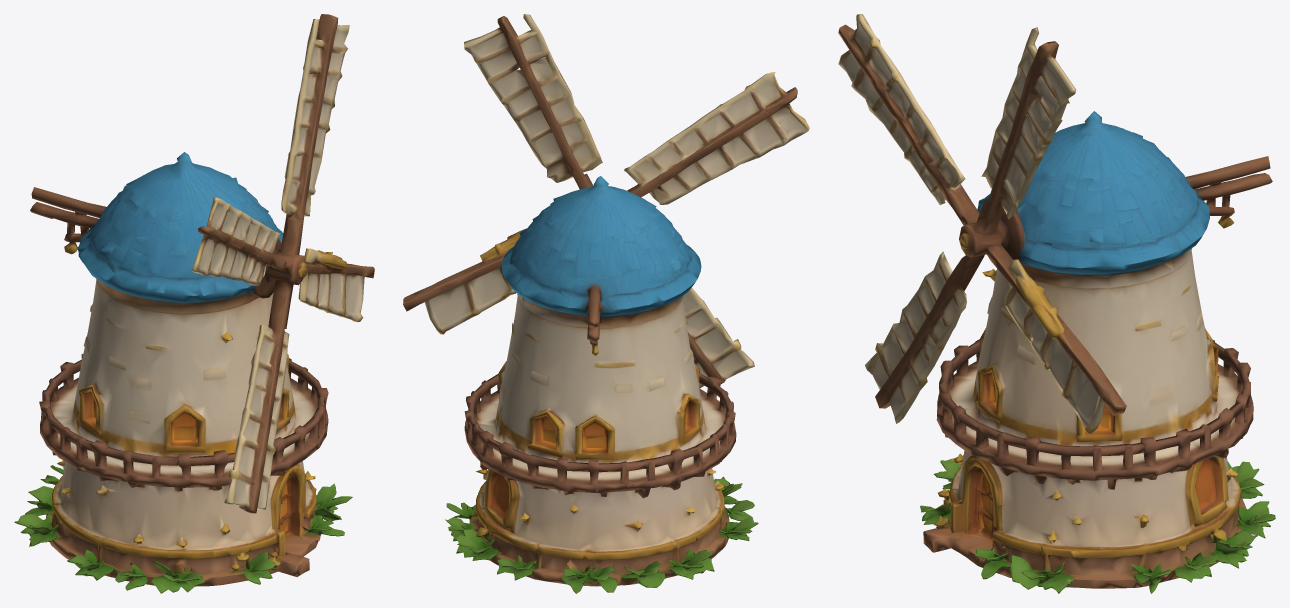
The model's file is windmill.glb.
The picture shows the model from 3 angles, left to right: view 1: azimuth 30°, elevation 25°; view 2: azimuth 150°, elevation 25°; view 3: azimuth 270°, elevation 25°; orthographic projection. The views are drawn at different scales.
Parts seen in each view (by area): view 1: tripo_node_404f2609-cdef-4bc7-a158-01b8f1bf0fbb; view 2: tripo_node_404f2609-cdef-4bc7-a158-01b8f1bf0fbb; view 3: tripo_node_404f2609-cdef-4bc7-a158-01b8f1bf0fbb.
Boxes of the visible parts, <box> form: tripo_node_404f2609-cdef-4bc7-a158-01b8f1bf0fbb: <box>14,14,374,593</box>; tripo_node_404f2609-cdef-4bc7-a158-01b8f1bf0fbb: <box>403,14,809,593</box>; tripo_node_404f2609-cdef-4bc7-a158-01b8f1bf0fbb: <box>838,14,1275,593</box>.
Size of the model in its own units: 0.7066 by 1 by 0.7169.
Materials: 1 (1 with a texture image).
